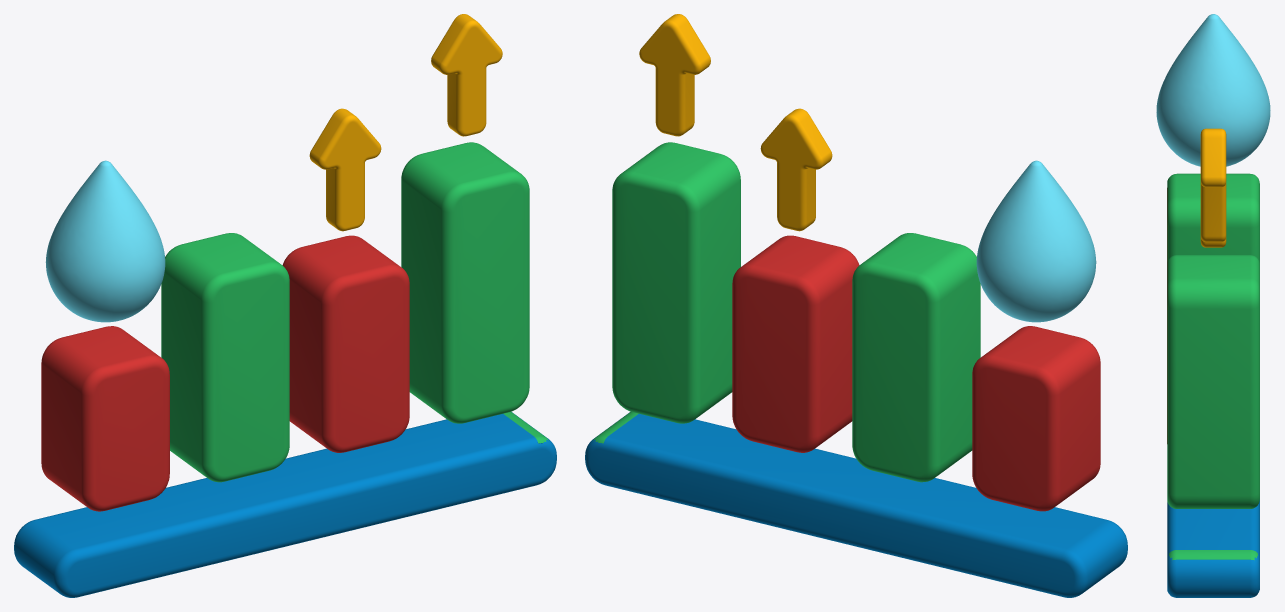
File: water-growth.glb
3 renders of one model, left to right at view 1: azimuth 30°, elevation 25°; view 2: azimuth 150°, elevation 25°; view 3: azimuth 270°, elevation 25°, orthographic. The views are drawn at different scales.
Parts seen in each view (by area): view 1: Cube.230, Sphere.005, Cube.002; view 2: Cube.230, Sphere.005, Cube.002; view 3: Cube.230, Sphere.005, Cube.002.
Part boxes in pixels (x1,y1,x2,y2): Cube.230: [14, 142, 556, 597]; Sphere.005: [45, 160, 165, 322]; Cube.002: [309, 14, 502, 231]; Cube.230: [585, 142, 1127, 597]; Sphere.005: [976, 160, 1096, 322]; Cube.002: [639, 14, 832, 231]; Cube.230: [1167, 173, 1259, 597]; Sphere.005: [1156, 14, 1270, 166]; Cube.002: [1200, 128, 1226, 247].
Size of the model in its own units: 2.41 by 2.14 by 0.4975.
